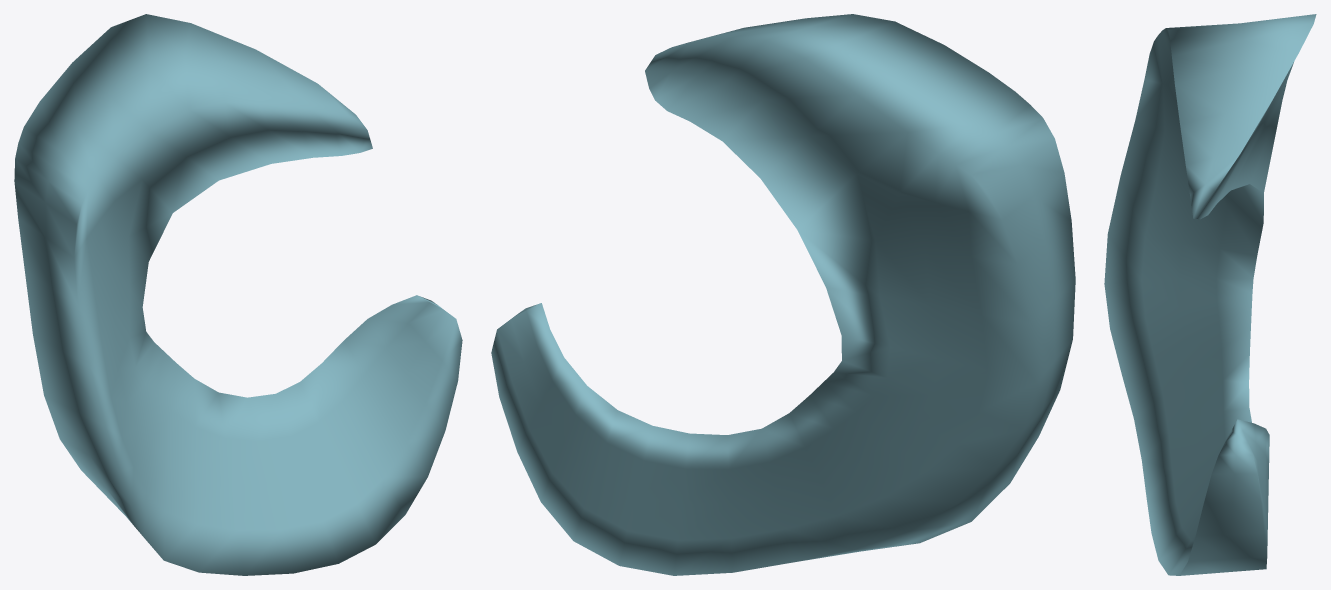
3 views of the same model, side by side, from view 1: azimuth 30°, elevation 25°; view 2: azimuth 150°, elevation 25°; view 3: azimuth 270°, elevation 25° (orthographic). The views are drawn at different scales.
Parts seen in each view (by area): view 1: 右侧外侧半月板; view 2: 右侧外侧半月板; view 3: 右侧外侧半月板.
Boxes of the visible parts, x1=… form: 右侧外侧半月板: x1=14, y1=14, x2=462, y2=575; 右侧外侧半月板: x1=491, y1=14, x2=1075, y2=575; 右侧外侧半月板: x1=1104, y1=14, x2=1316, y2=575.
Bounding box in the file's own units: 0.0498 × 0.0571 × 0.0226.
